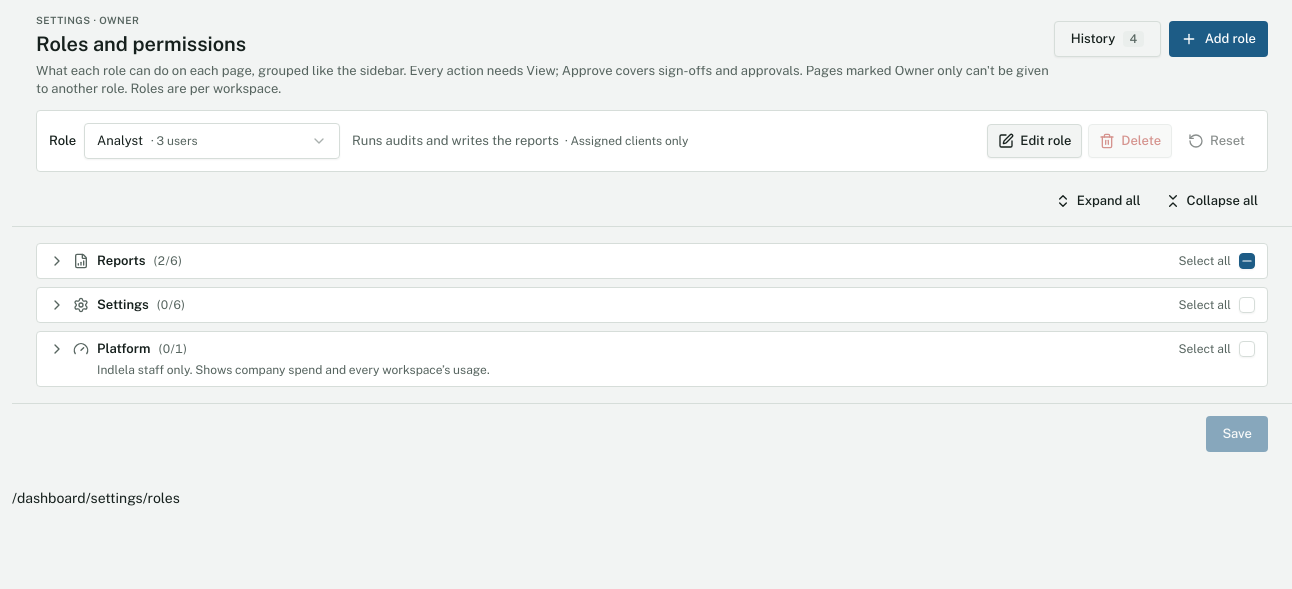
RolesPage › shows Platform › Usage as a view-only row, with a staff-only note, when the catalogue has it
Check: the dropdown named "Role" is shown, box [84,123,340,159]
Click the button "Platform (0/1)" at (124, 348), box [49,340,1166,358]
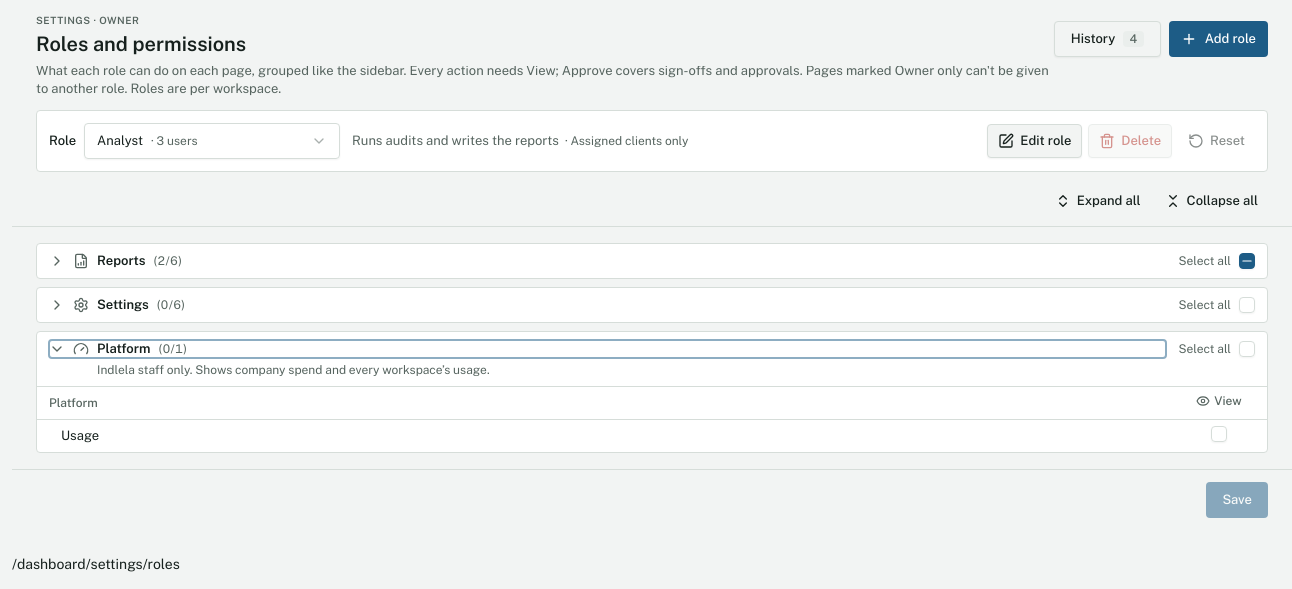
Check: the column headings read "Platform", "View", in this order, box [37,387,1171,419]; [1171,387,1267,419]
Click the checkbox named "View Usage" at (1219, 434), box [1211,426,1227,442]
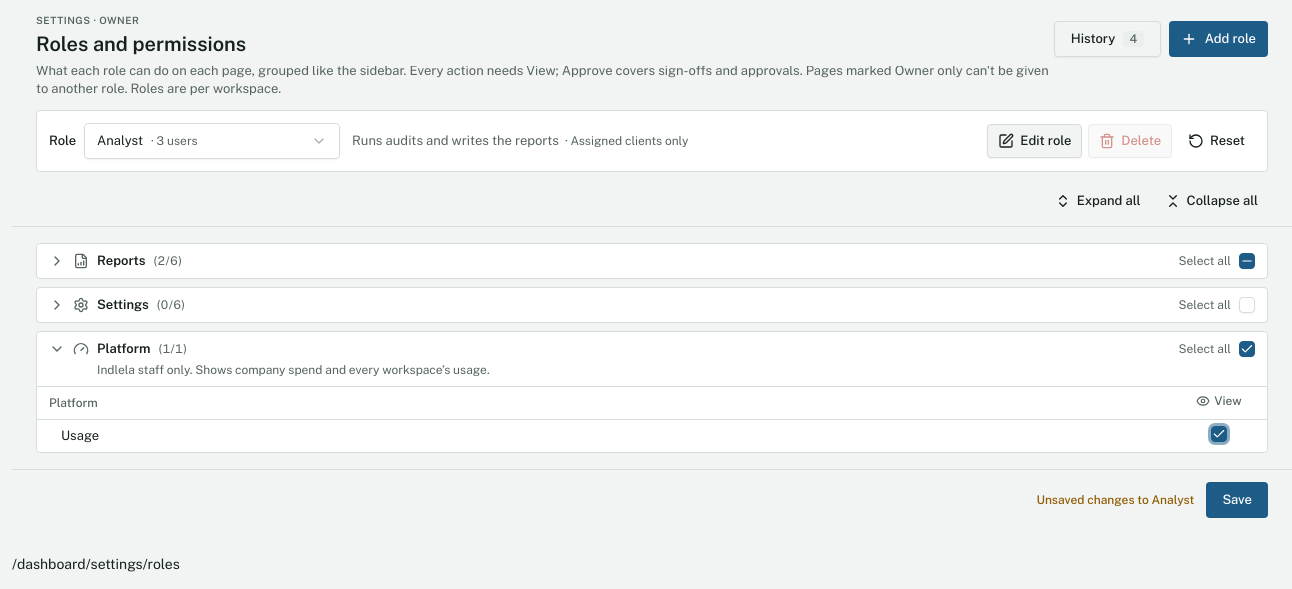
Check: the checkbox named "View Usage" is checked, box [1211,426,1227,442]
